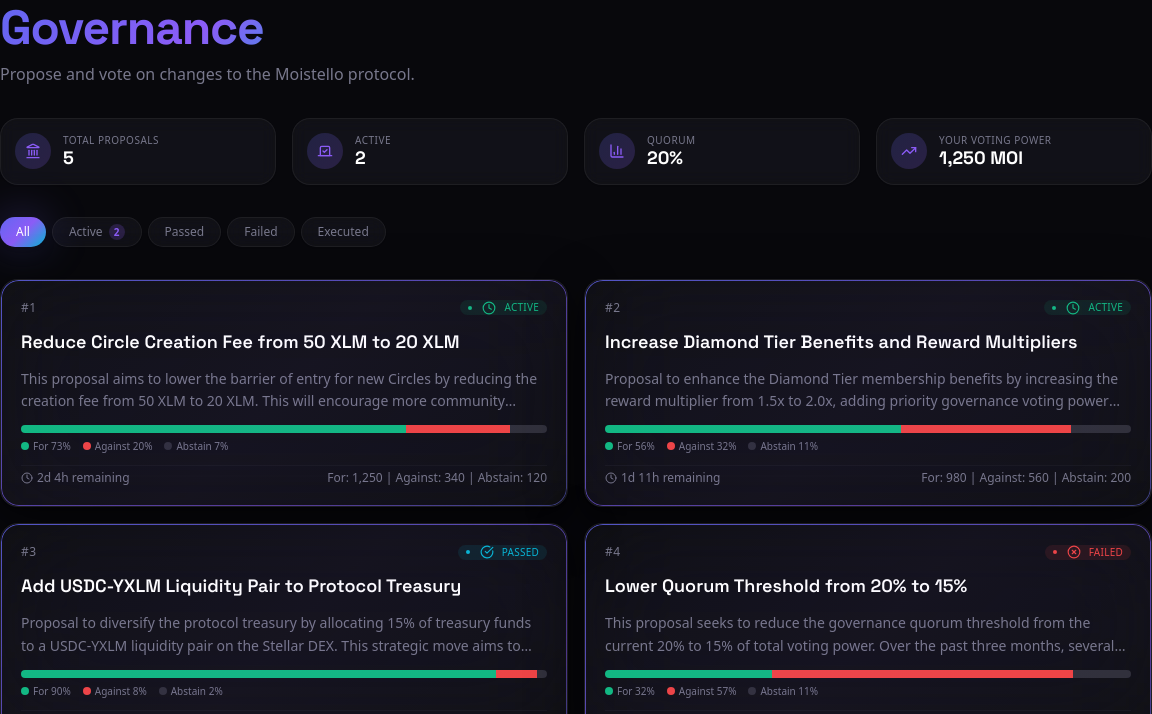
Test case: Governance List Interactions › clicking 'Passed' filter shows passed proposals only
Click the button "Passed". click: (184, 232)
box: [148,216,221,246]
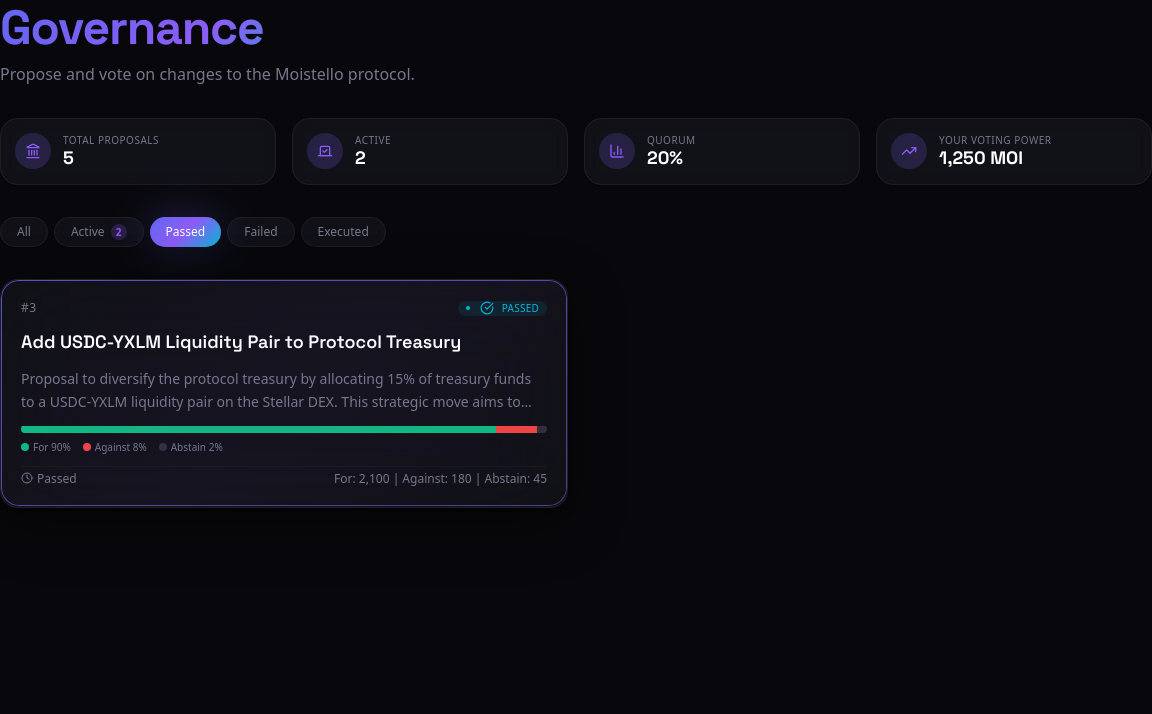
Check: the heading "Add USDC-YXLM Liquidity Pair to Protocol Treasury" is shown, box [21,330,461,352]
Check: the heading "Reduce Circle Creation Fee from 50 XLM to 20 XLM" is gone
